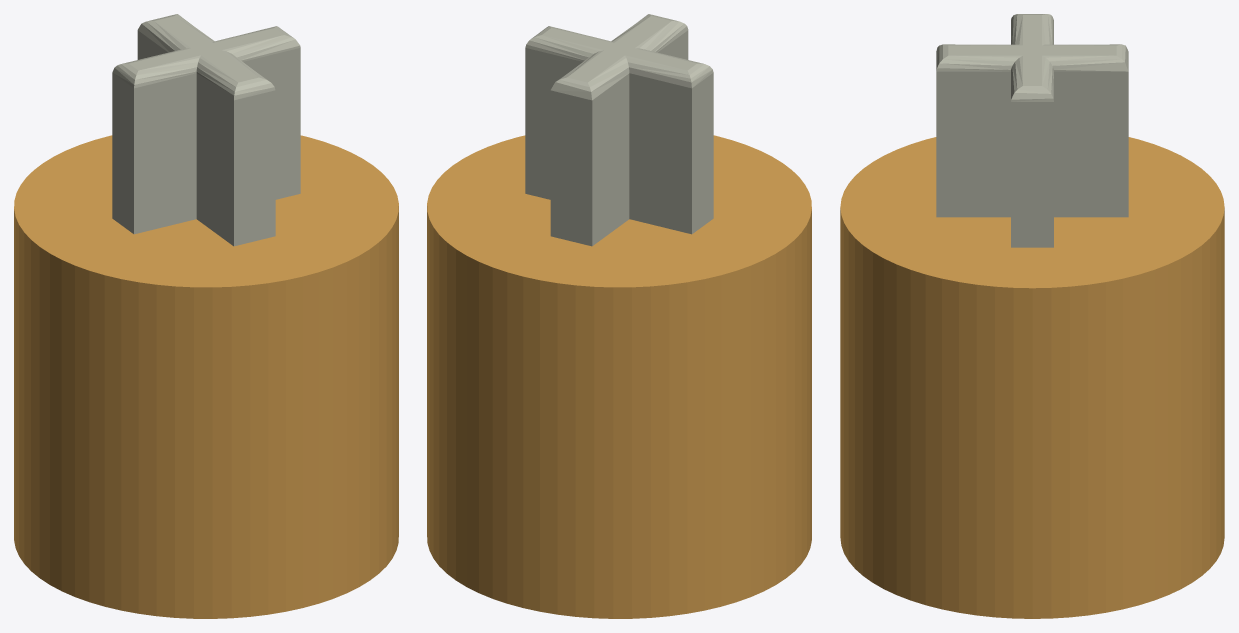
The model's file is Nav Switch to MX Stem Adaptor (PCB mount).glb.
The picture shows the model from 3 angles, left to right: view 1: azimuth 30°, elevation 25°; view 2: azimuth 150°, elevation 25°; view 3: azimuth 270°, elevation 25°; orthographic projection.
Visible parts, largest first — view 1: Mesh_Mesh_head_geo.001_lambert2SG.001; view 2: Mesh_Mesh_head_geo.001_lambert2SG.001; view 3: Mesh_Mesh_head_geo.001_lambert2SG.001.
Boxes of the visible parts, bbox=[...] form: Mesh_Mesh_head_geo.001_lambert2SG.001: bbox=[14, 14, 398, 618]; Mesh_Mesh_head_geo.001_lambert2SG.001: bbox=[427, 14, 811, 618]; Mesh_Mesh_head_geo.001_lambert2SG.001: bbox=[840, 14, 1224, 618].
Bounding box in the file's own units: 8 × 11.2 × 8.
